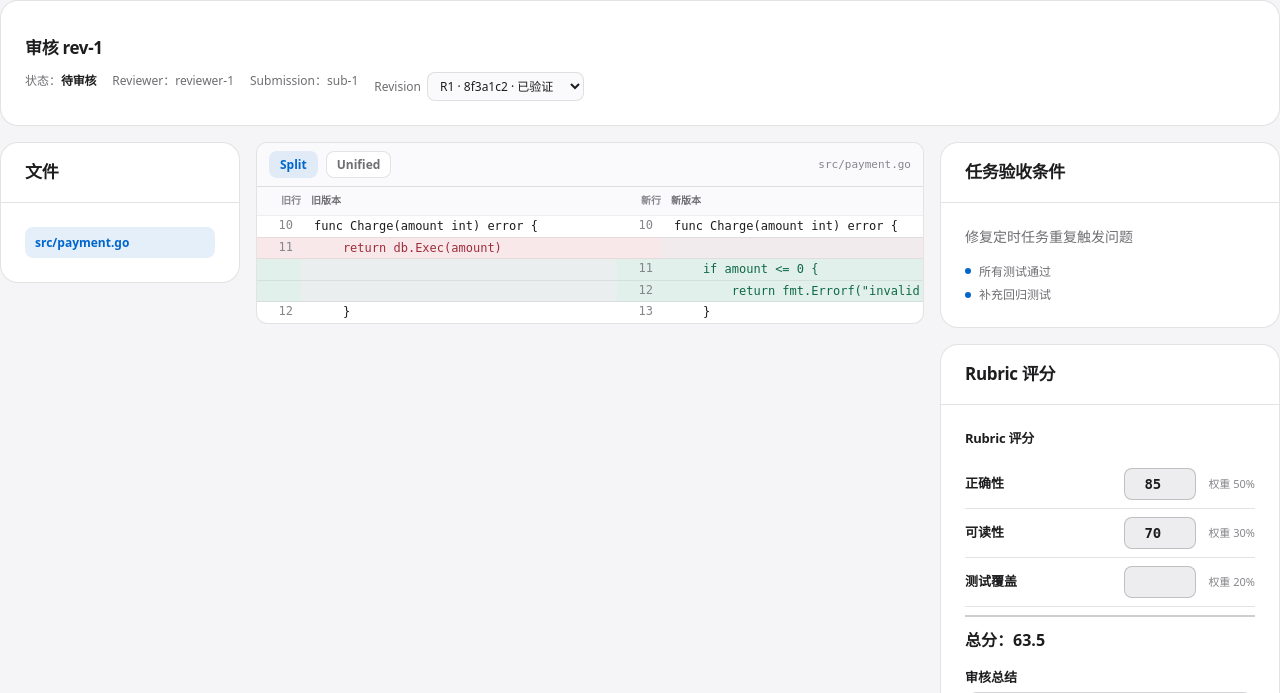
Test: ReviewPage › shows a local alert and keeps the draft when comment submission fails
Click the button named "在右侧第 12 行添加评论" at (639,290), box [617,281,661,299]
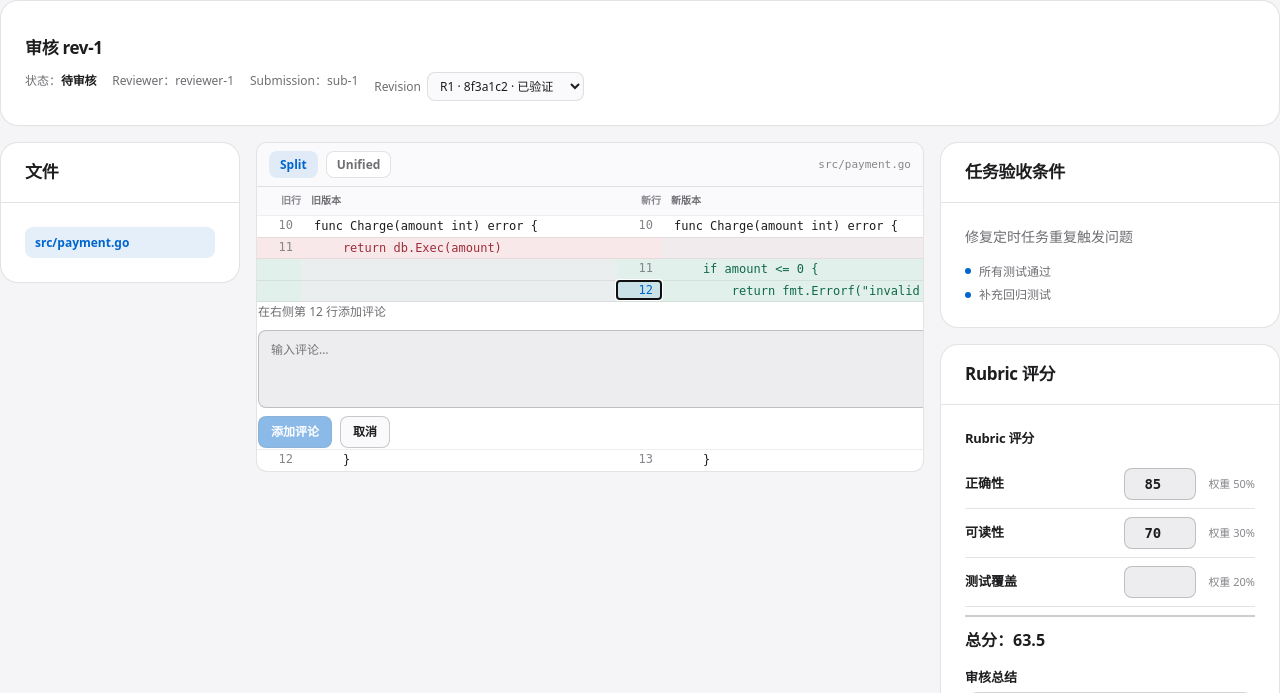
Type "边界情况未处理" into the text box with placeholder "输入评论…" at (617,369), box [258,330,976,408]
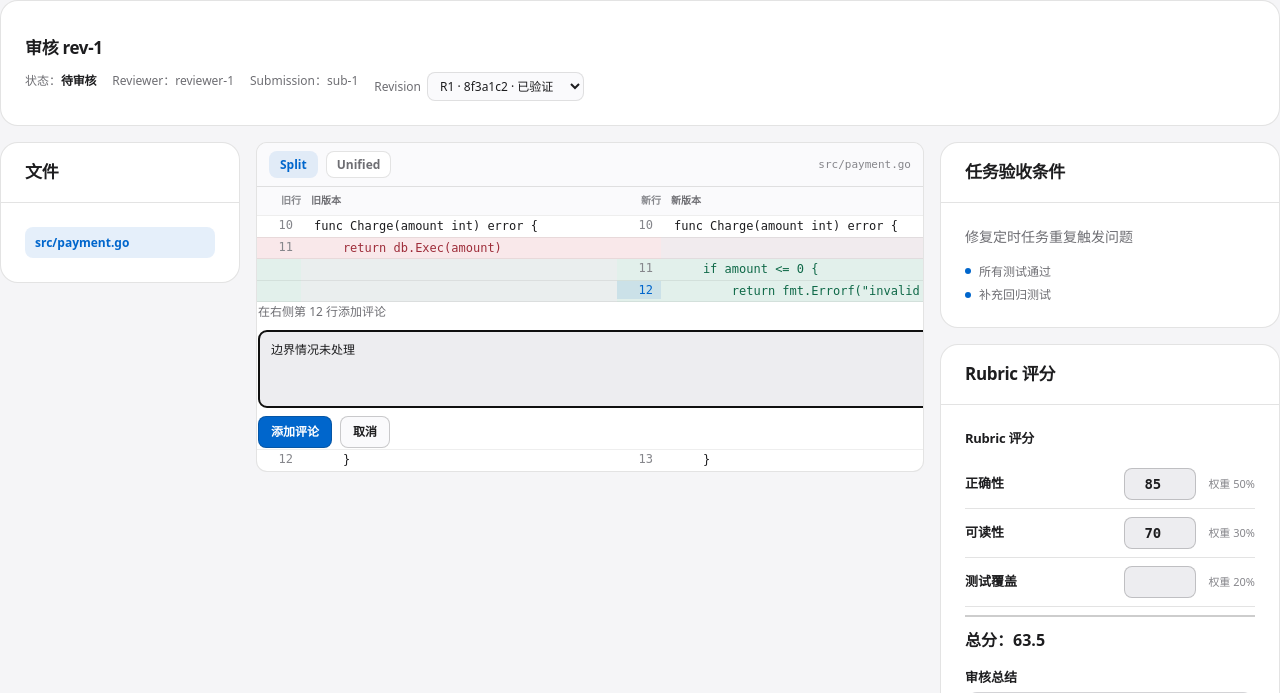
Click the button "添加评论" at (295,432), box [258,416,332,448]
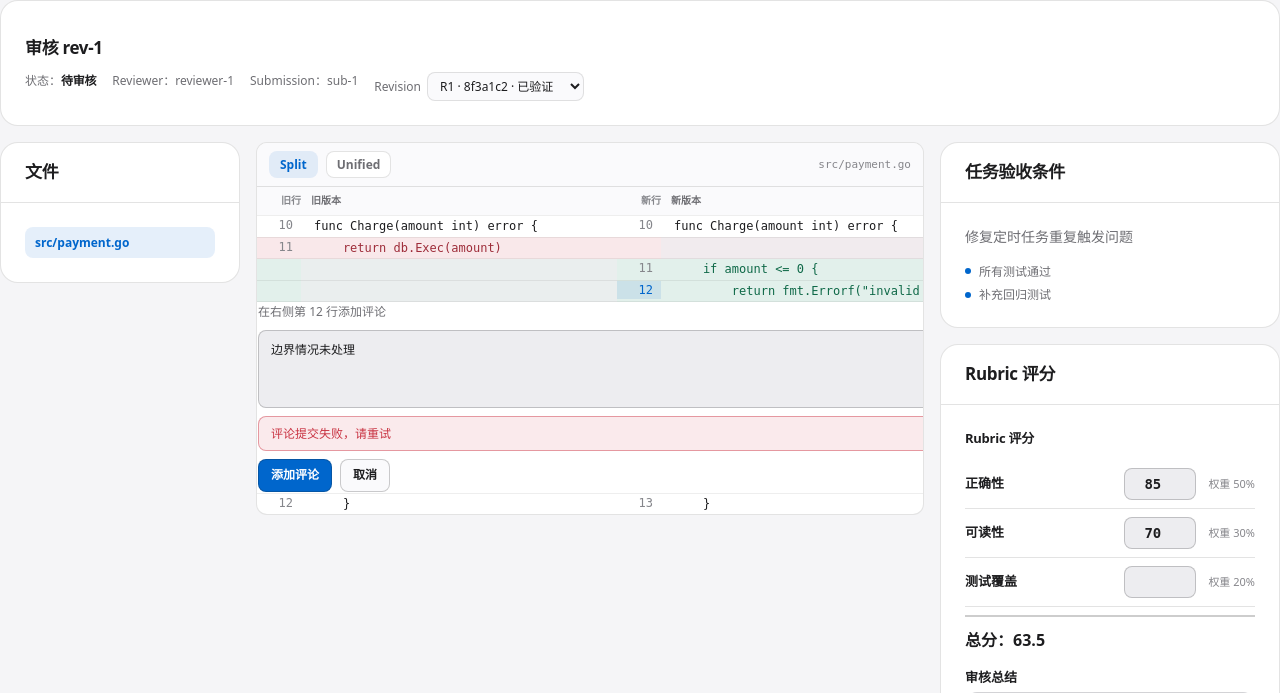
Expected: the element with placeholder "输入评论…" is shown, [258,303,923,492]
Expected: the message reads "评论提交失败，请重试", [271,425,391,442]
